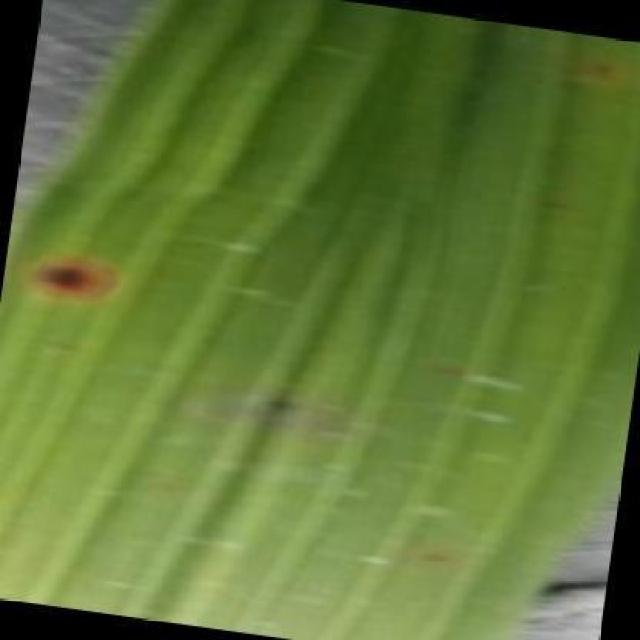Leaf_Blast: (412, 343, 537, 440), (23, 245, 119, 312), (269, 574, 342, 618), (84, 560, 150, 608), (339, 537, 398, 578), (576, 45, 630, 86), (418, 349, 473, 389), (40, 327, 91, 365), (413, 539, 461, 578), (259, 386, 307, 419)
